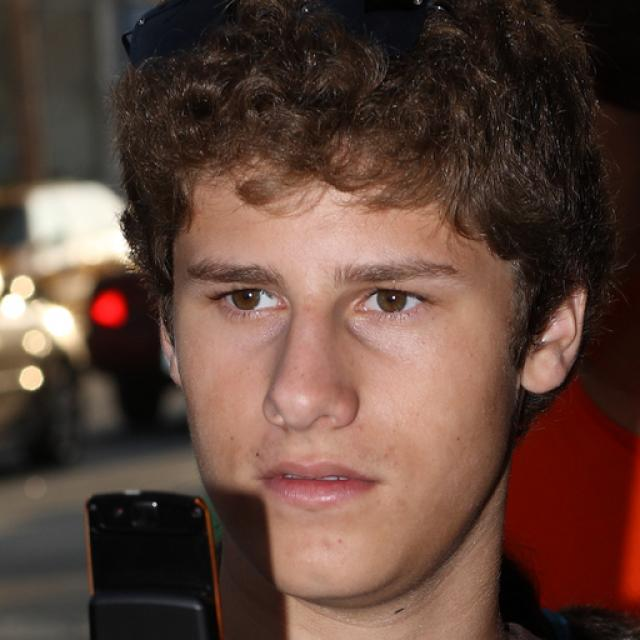neutral: (174, 125, 522, 607)
